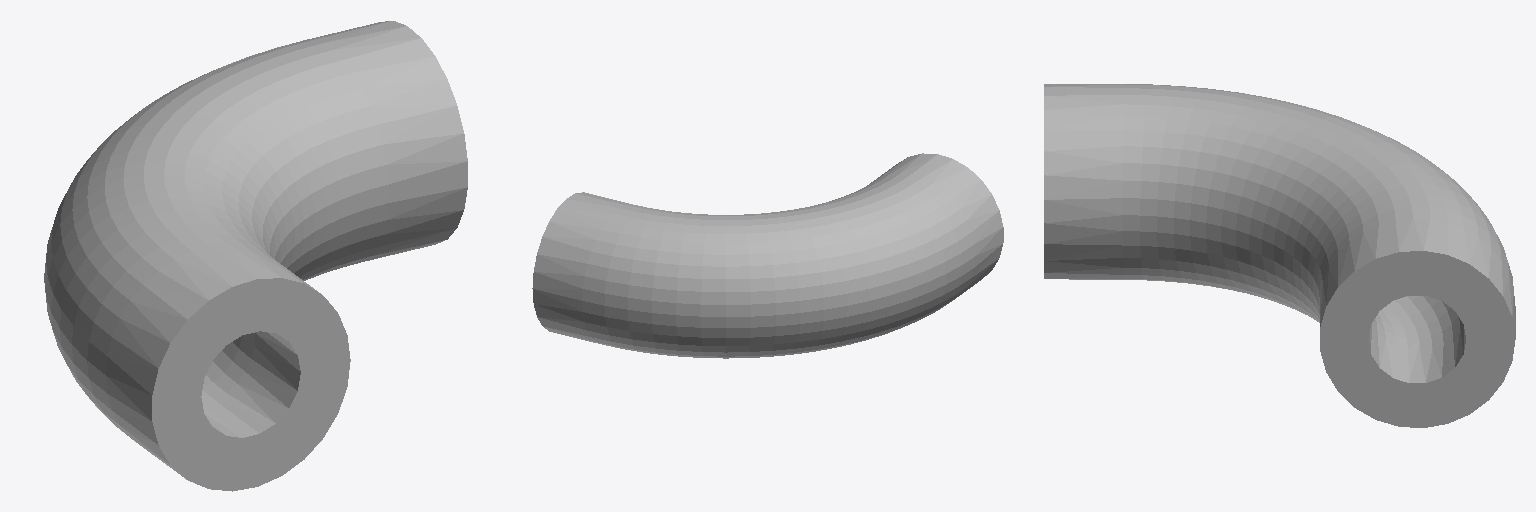
URDF robot description (90elbow):
<robot
  name="90elbow">
  <link
    name="90elbow">
    <inertial>
      <origin
        xyz="-0.059761 0.090239 2.95719999447464E-09"
        rpy="0 0 0" />
      <mass
        value="1.8591" />
      <inertia
        ixx="0.00916482144293095"
        ixy="-0.00557736620182532"
        ixz="6.15460965933823E-09"
        iyy="0.00916482144293095"
        iyz="-6.15460965937874E-09"
        izz="0.015424719956607" />
    </inertial>
    <visual>
      <origin
        xyz="0 0 0"
        rpy="1.5707963267949 0 1.5707963267949" />
      <geometry>
        <mesh
          filename="package://cr_mit/URDF/90elbow/meshes/90elbow.STL" />
      </geometry>
      <material
        name="">
        <color
          rgba="0.7451 0.7451 0.7451 1" />
      </material>
    </visual>
    <collision>
      <origin
        xyz="0 0 0"
        rpy="1.5707963267949 0 0" />
      <geometry>
        <mesh
          filename="package://cr_mit/URDF/90elbow/meshes/90elbow.STL" />
      </geometry>
    </collision>
  </link>
</robot>

--- Facts derived from the render (not from the file) ---
The picture shows the robot from 3 angles, left to right: view 1: azimuth 30°, elevation 25°; view 2: azimuth 150°, elevation 25°; view 3: azimuth 270°, elevation 25°; orthographic projection.
Robot: 90elbow — 1 links, 0 joints (none); root link 90elbow; default pose: every joint at zero.
Links seen in each view (by area): view 1: 90elbow; view 2: 90elbow; view 3: 90elbow.
Boxes of the visible links, x1=… form: 90elbow: x1=44, y1=21, x2=467, y2=491; 90elbow: x1=532, y1=153, x2=1003, y2=358; 90elbow: x1=1044, y1=84, x2=1515, y2=427.
Bounding box of the posed robot: 0.24 × 0.24 × 0.0999 m (x, y, z).
1 mesh visuals loaded from 1 distinct referenced files (1 binary STL).